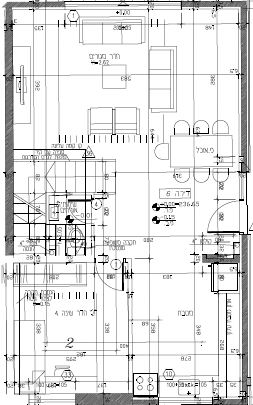wall: (5, 23, 13, 253), (243, 235, 249, 401), (241, 2, 247, 168)
